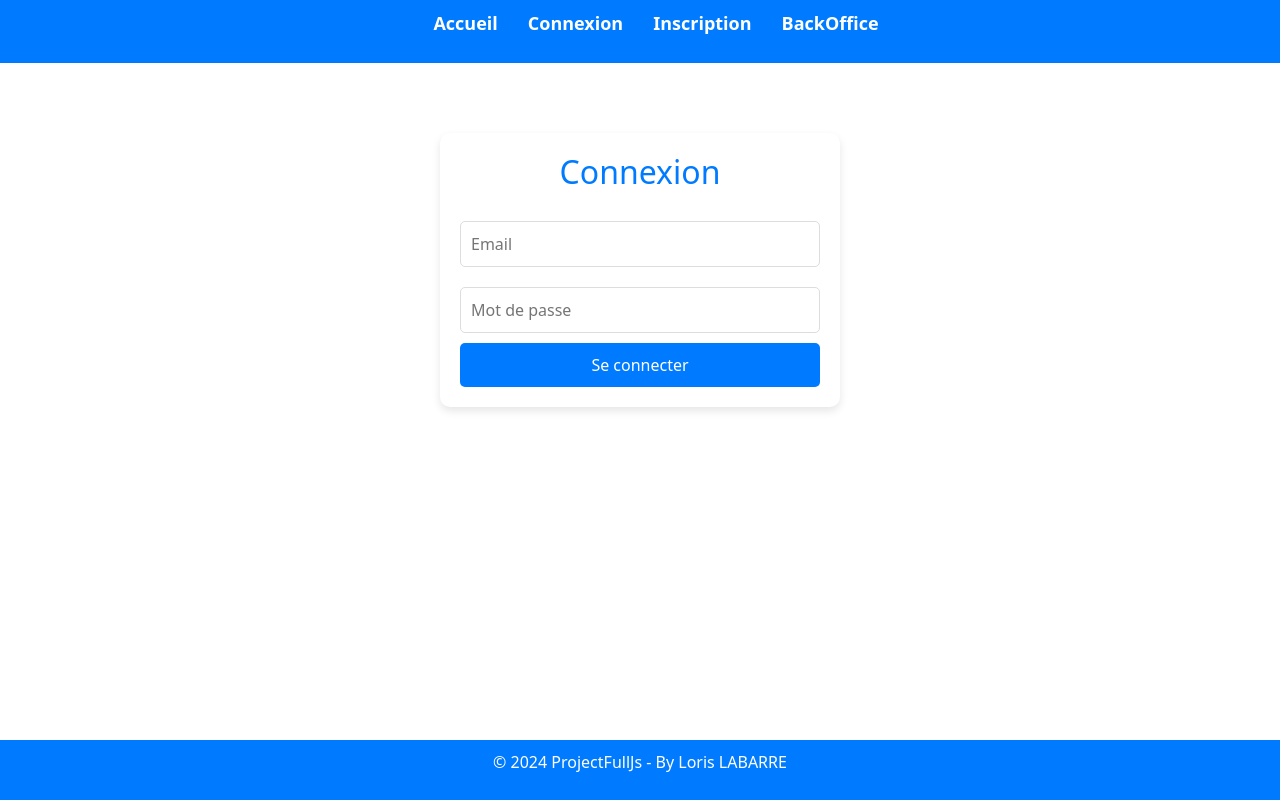
Test: Page de Connexion - UserLogin › Tente de se connecter avec des identifiants incorrects
Type "test@test.com" into the field with placeholder "Email". click: (640, 244)
box: x1=460 y1=221 x2=820 y2=267
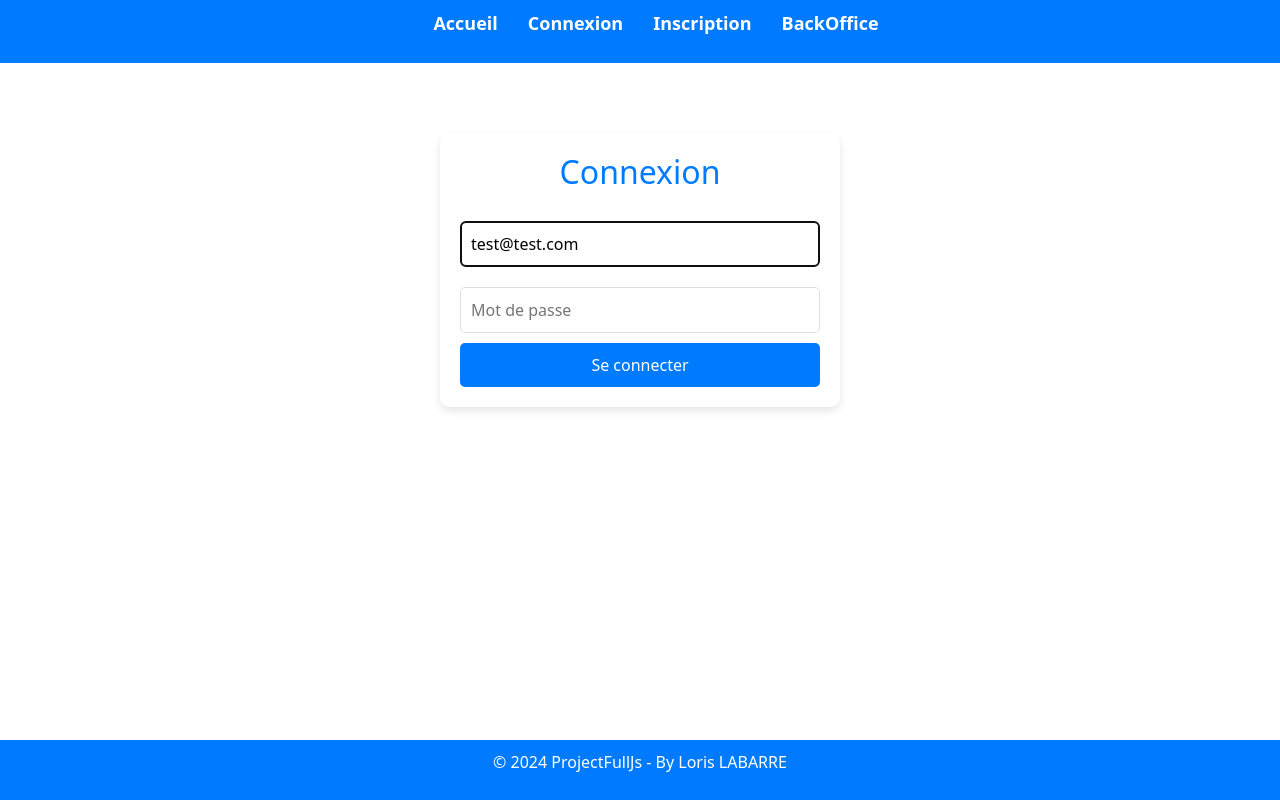
Type "wrongpassword" into the password field with placeholder "Mot de passe". click: (640, 310)
box: x1=460 y1=287 x2=820 y2=333
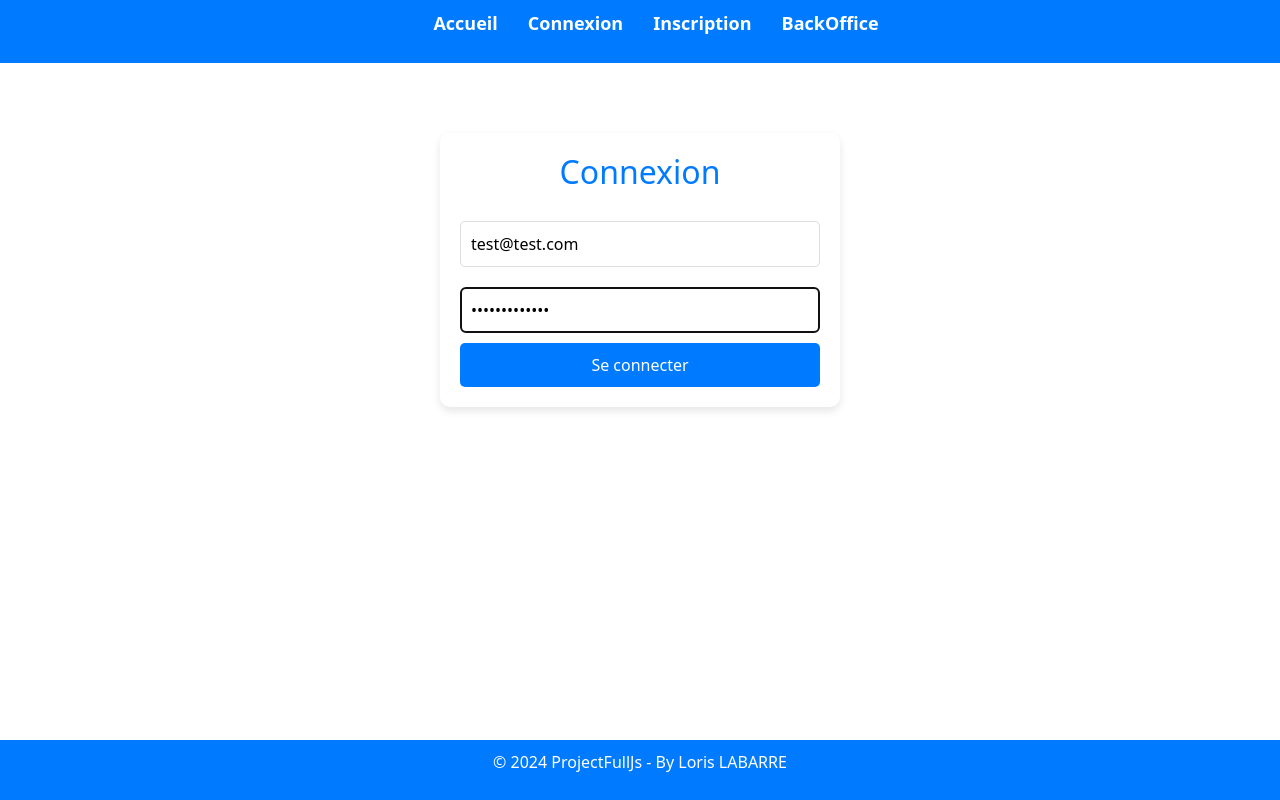
Click the submit button. click: (640, 365)
box: x1=460 y1=343 x2=820 y2=387
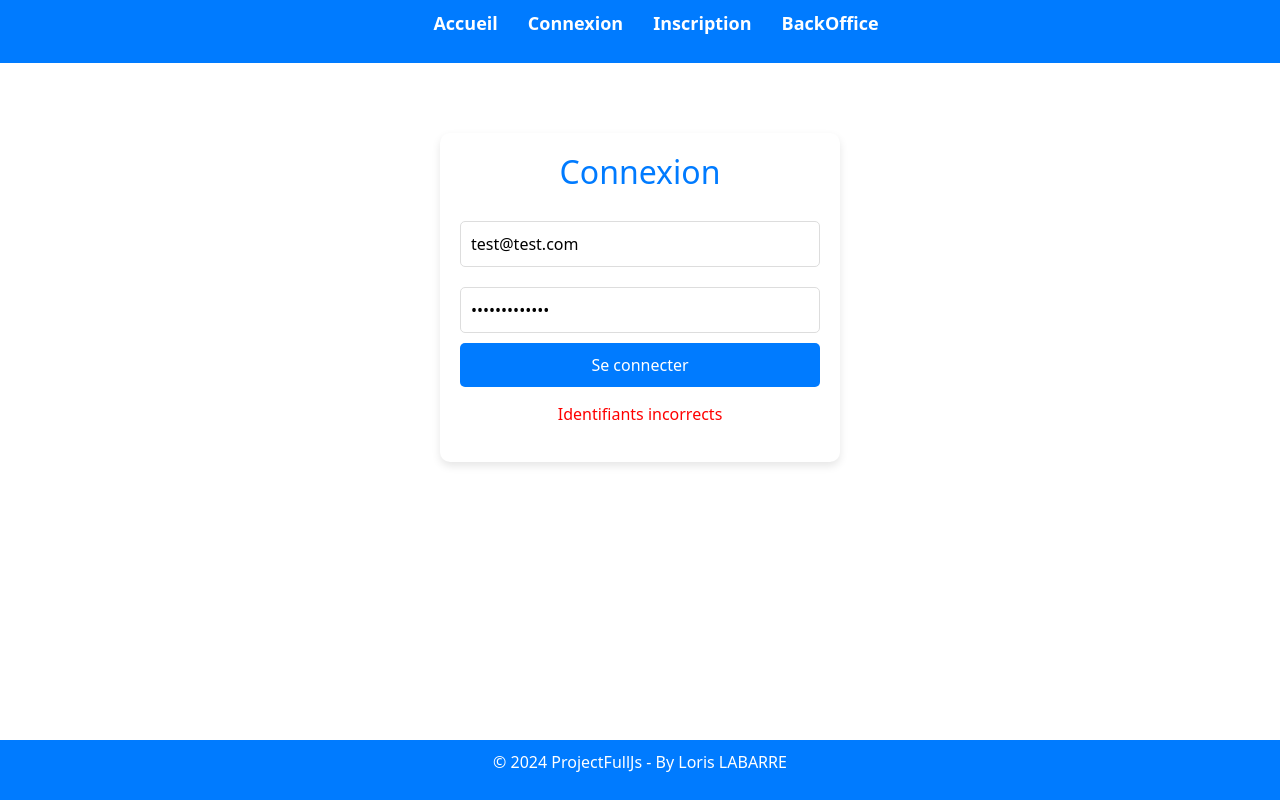
Expected: the text "Identifiants incorrects" is shown, x1=558 y1=403 x2=722 y2=425
Expected: the text with class "error-message" reads "Identifiants incorrects", x1=558 y1=403 x2=723 y2=425
